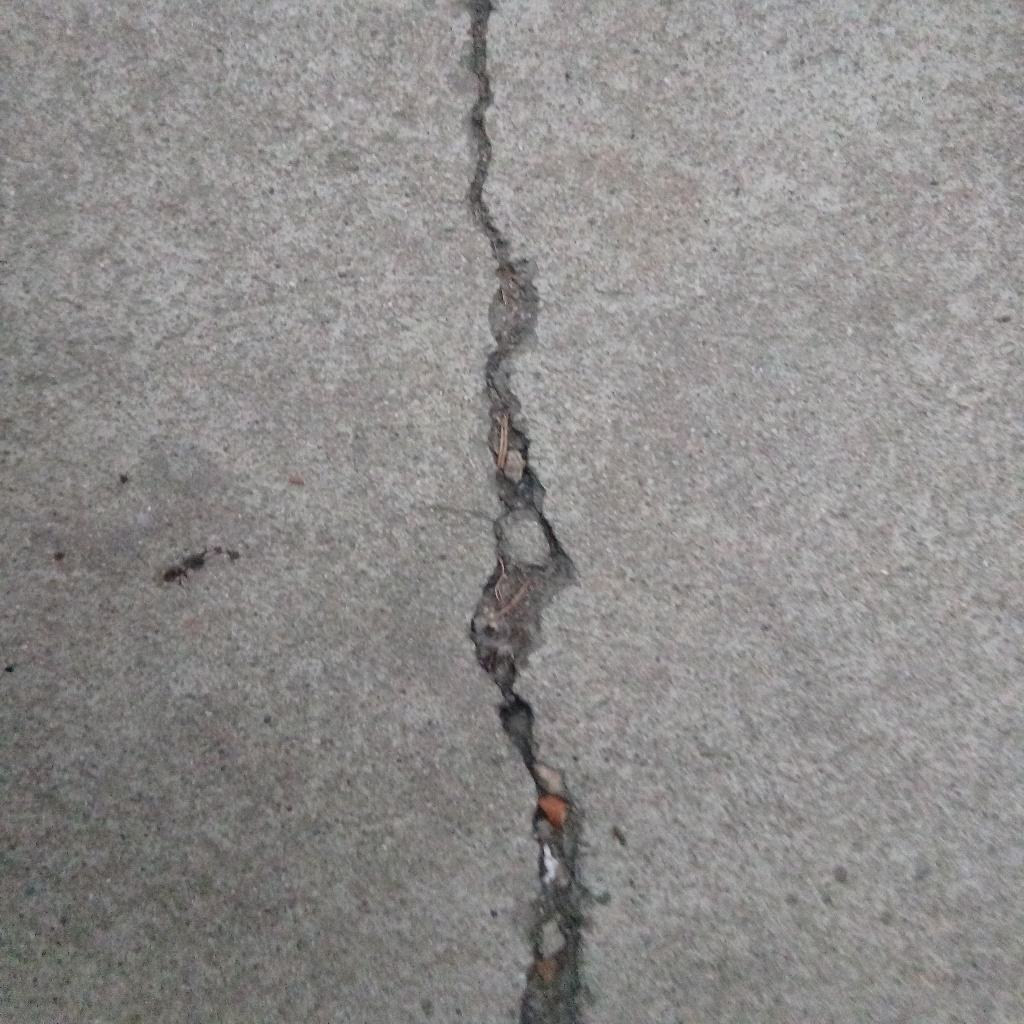Crack: (467, 1, 589, 1024)
